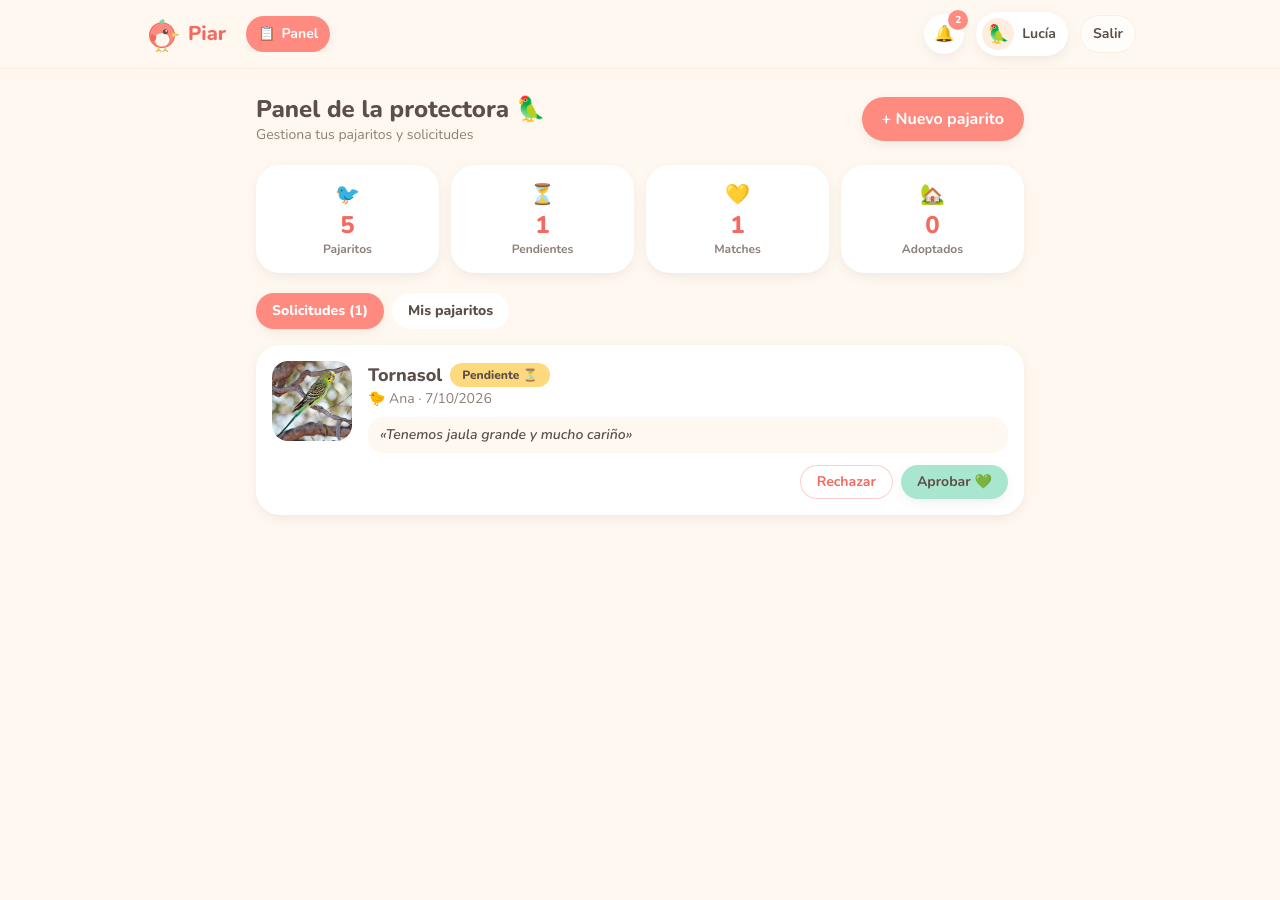
it: panel de la protectora › rechaza una solicitud
The image size is (1280, 900).
Click the button "Rechazar". click: (846, 482)
box: [800,465,893,499]
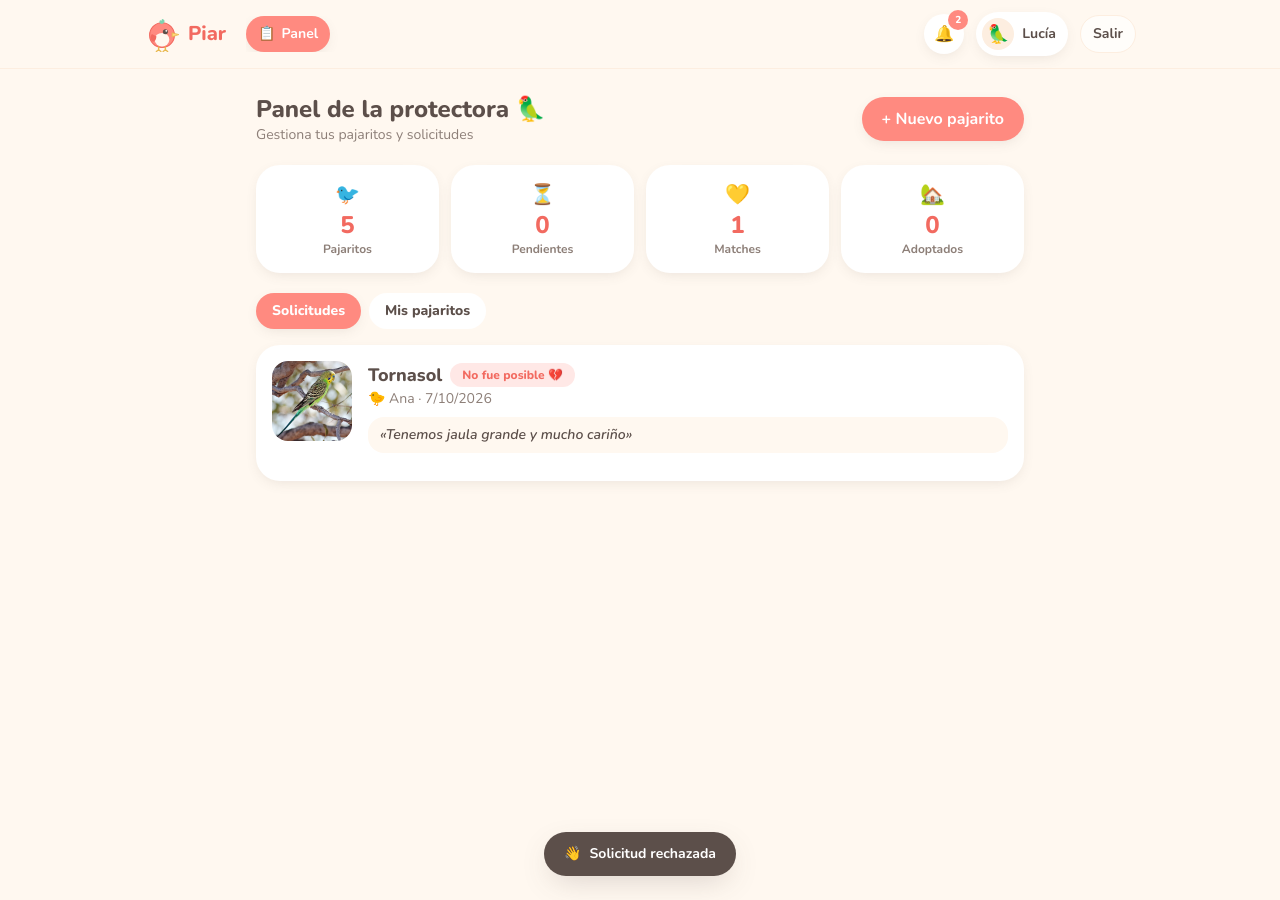
Result: the text "No fue posible 💔" is shown at [450,363,575,387]
